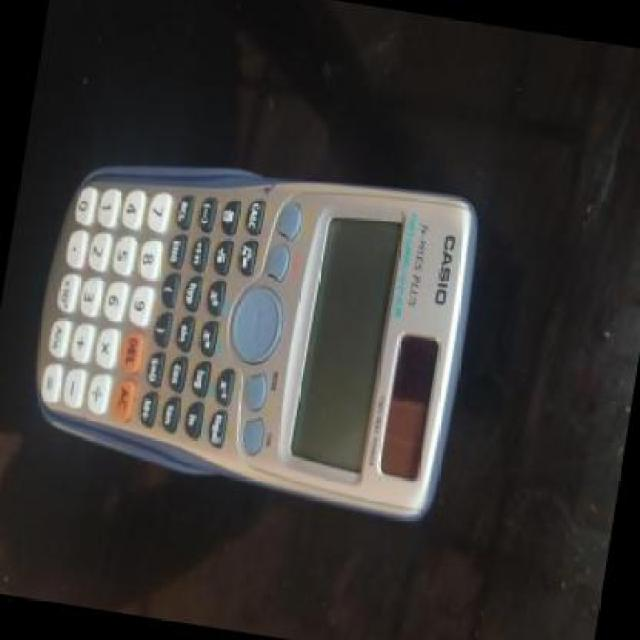Calculator: (8, 123, 494, 532)
